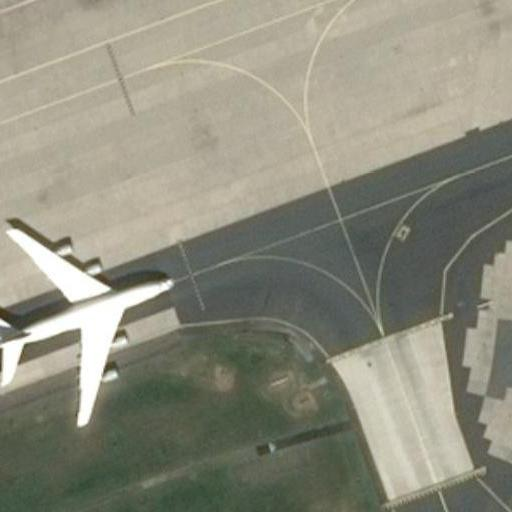Aircraft: (0, 219, 174, 424)
